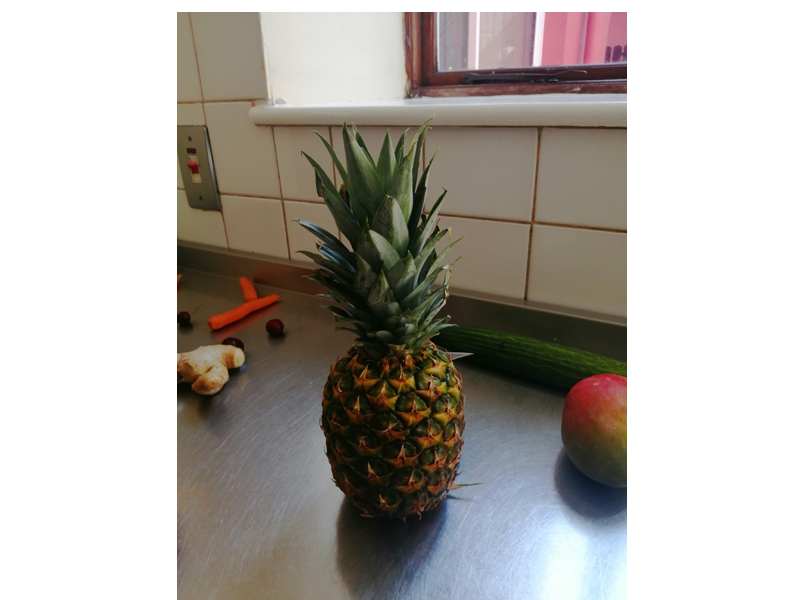pineapple: (284, 132, 487, 531)
